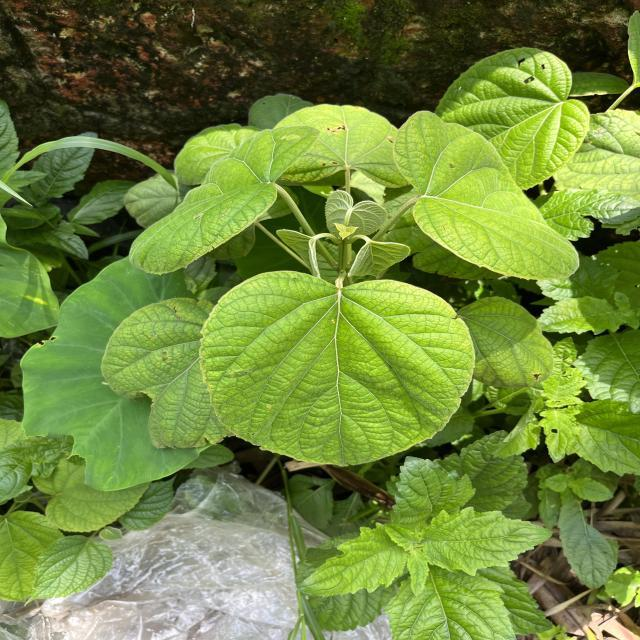Clerodendrum infortunatum: (199, 270, 476, 467), (392, 110, 582, 282), (126, 124, 322, 276), (432, 46, 592, 194), (99, 296, 236, 452), (459, 296, 556, 390)
